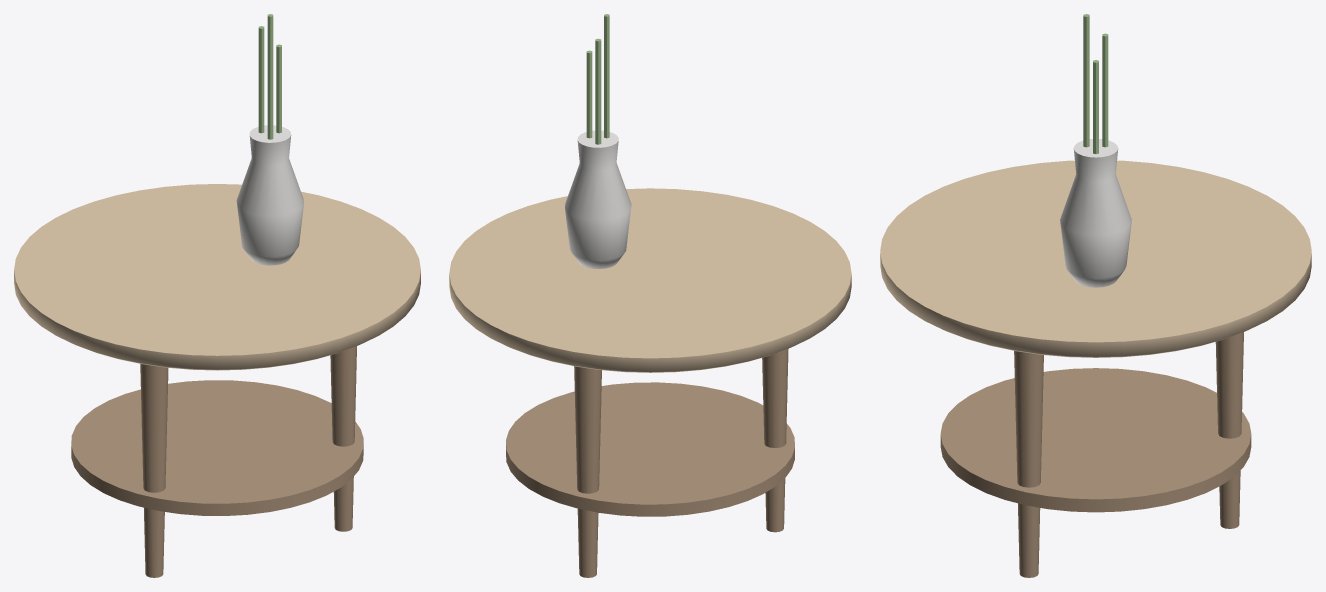
3 views of the same model, side by side, from view 1: azimuth 30°, elevation 25°; view 2: azimuth 150°, elevation 25°; view 3: azimuth 270°, elevation 25° (orthographic). The views are drawn at different scales.
Parts seen in each view (by area): view 1: Bàn trà tròn; view 2: Bàn trà tròn; view 3: Bàn trà tròn.
Part boxes in pixels (bbox=[...]): Bàn trà tròn: bbox=[14, 14, 420, 577]; Bàn trà tròn: bbox=[449, 14, 851, 577]; Bàn trà tròn: bbox=[880, 14, 1311, 577].
Size of the model in its own units: 0.6 by 0.82 by 0.6.
